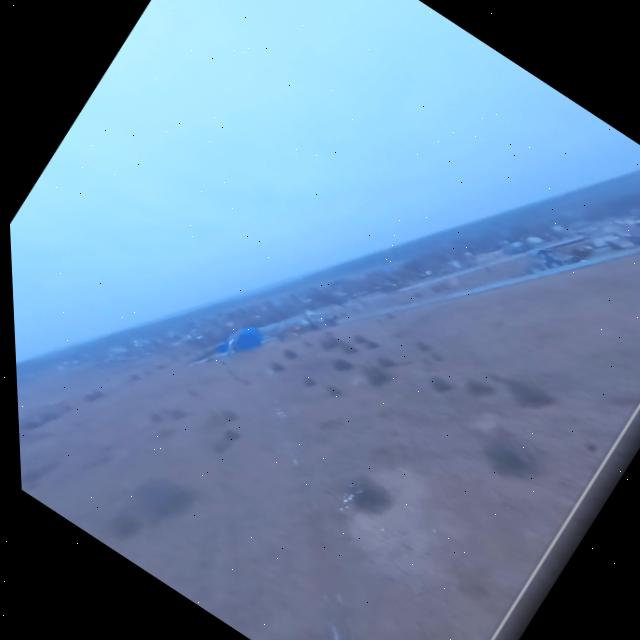planedrone: (198, 320, 249, 374)
